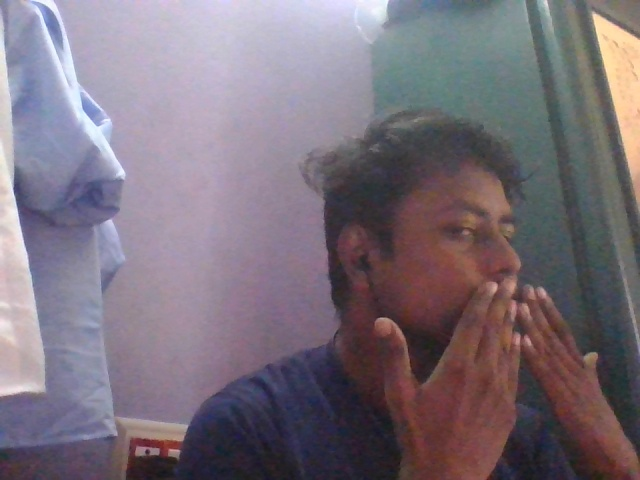thankyou: (346, 266, 640, 480)
